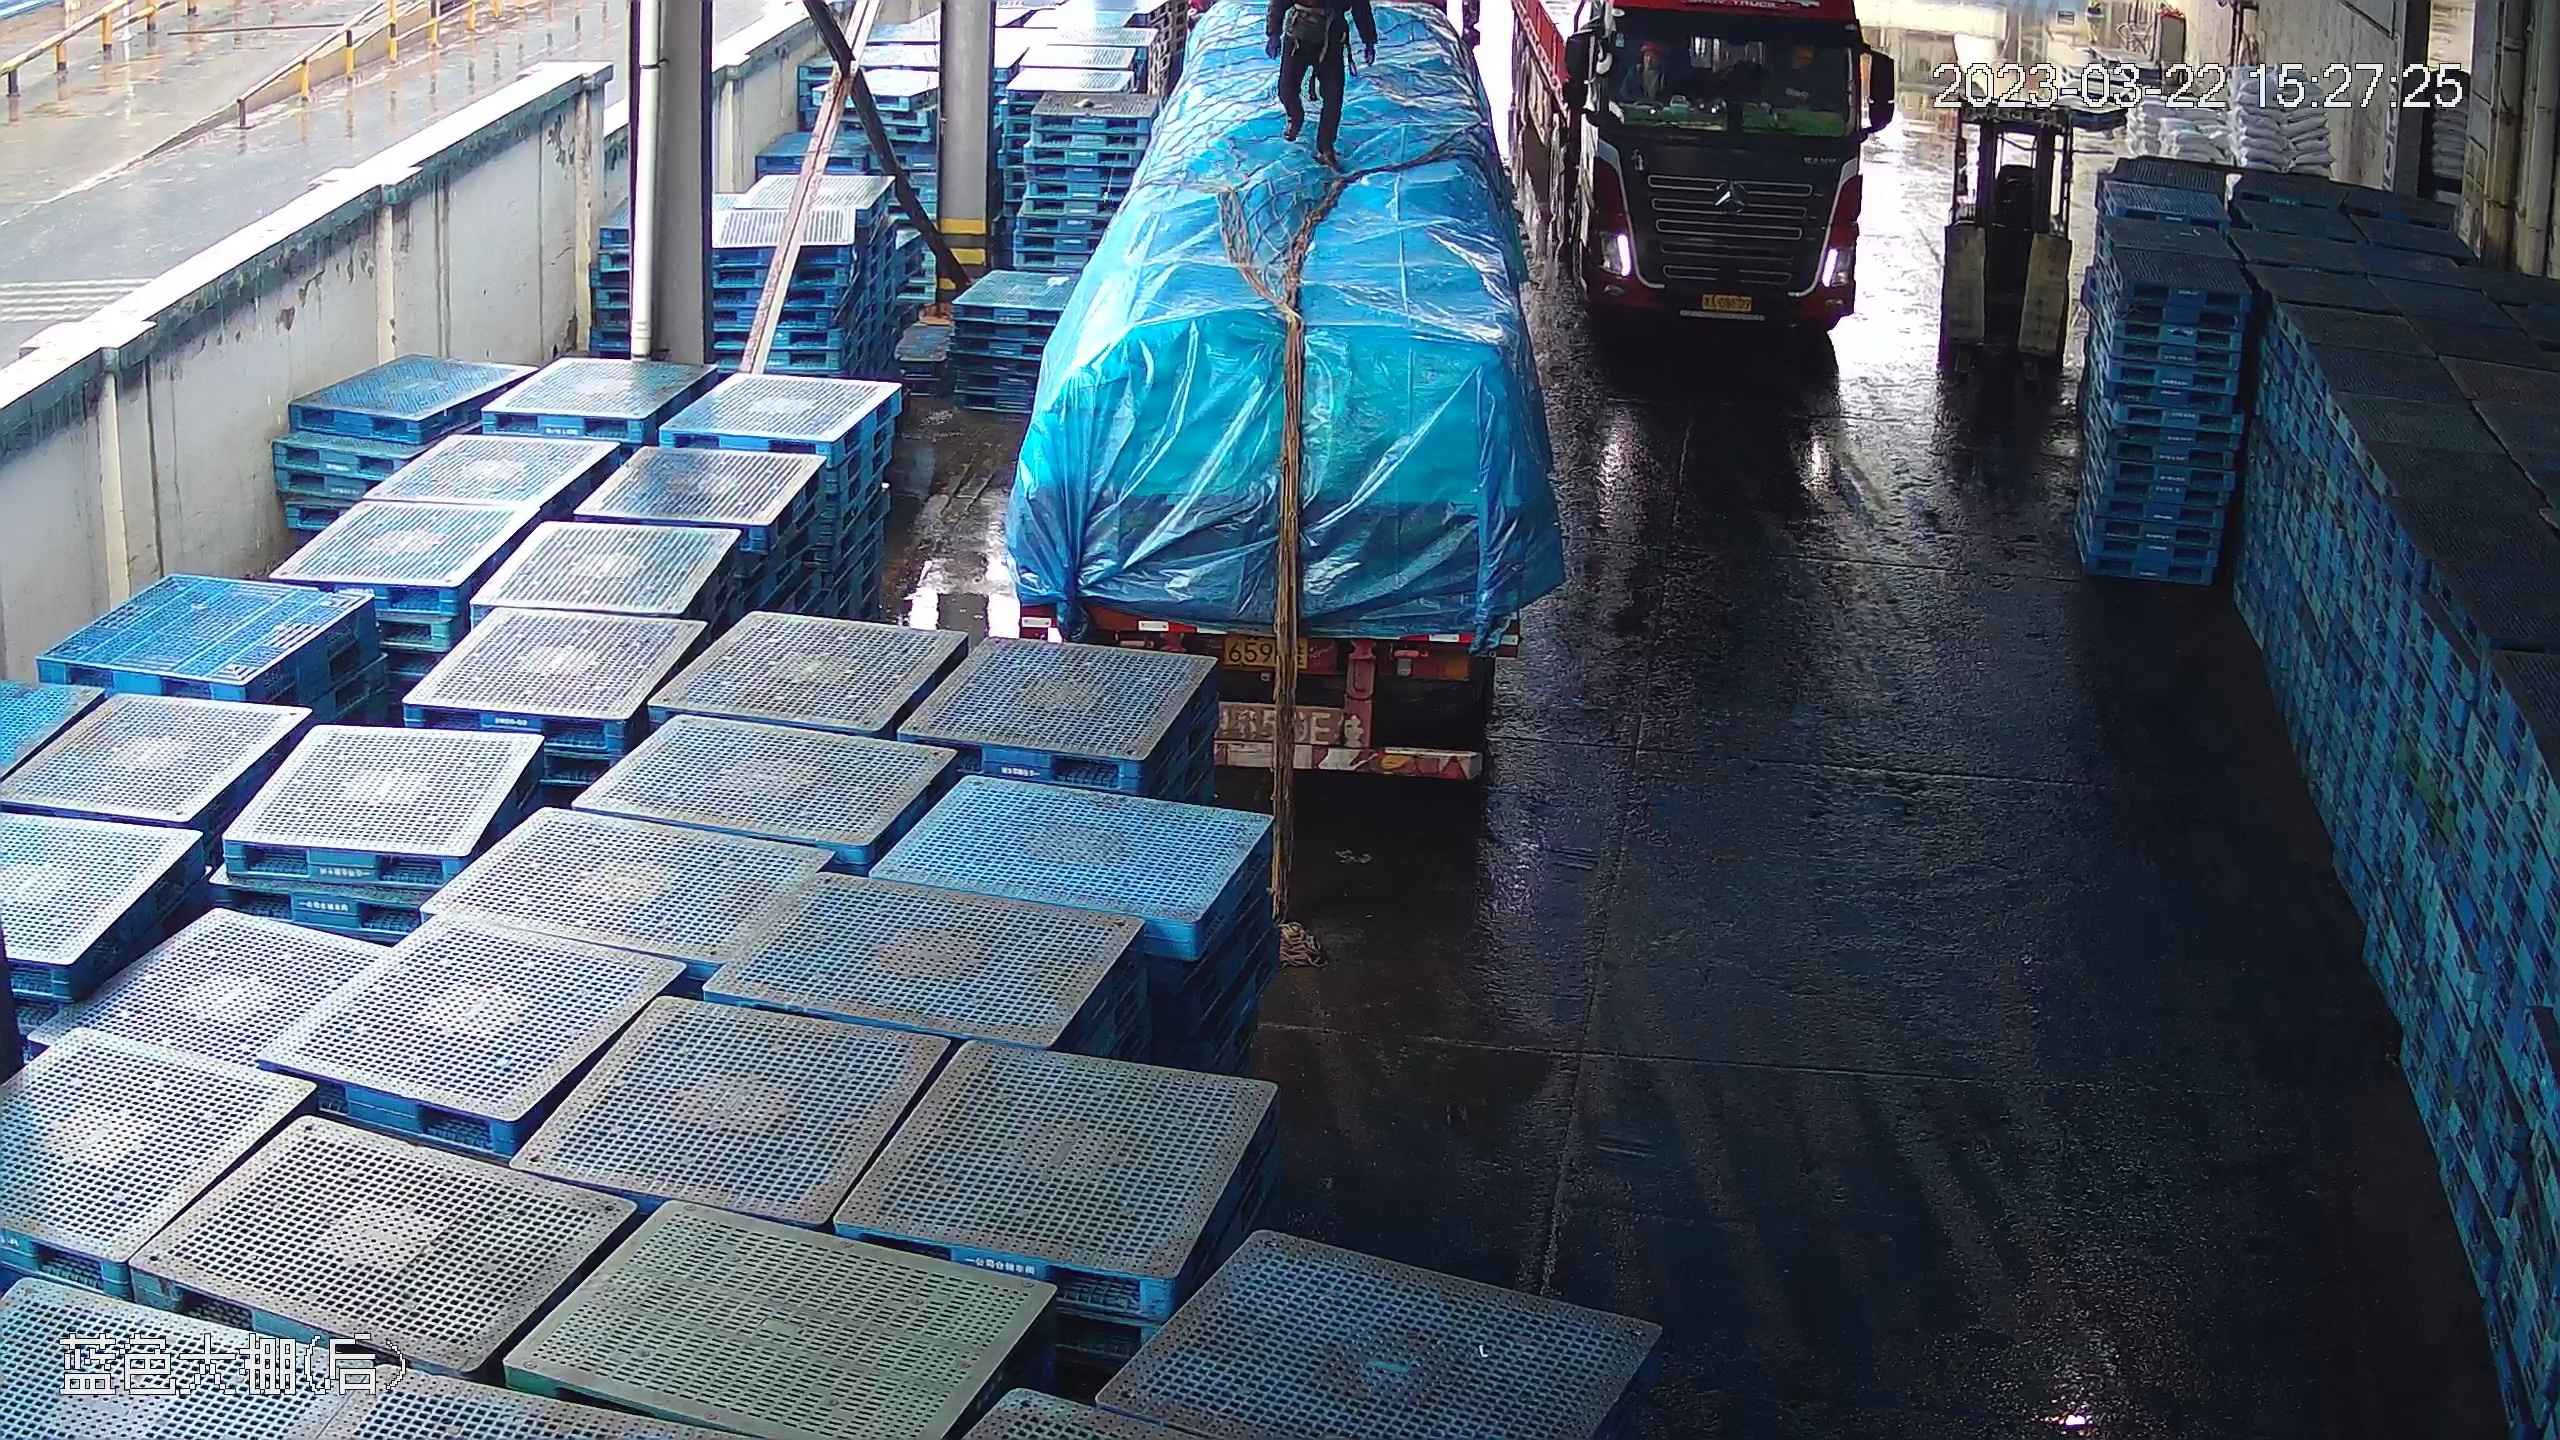belt: (1288, 3, 1346, 33)
people: (1268, 1, 1369, 163)
truck: (980, 4, 1578, 788), (1542, 1, 1888, 335)
